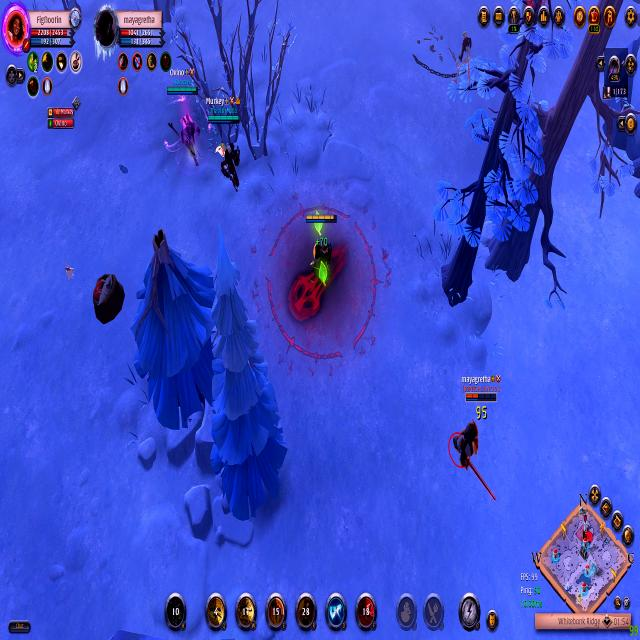ore: (452, 27, 474, 92), (523, 0, 553, 7)
red: (446, 366, 504, 510), (203, 92, 257, 195), (160, 59, 206, 177), (300, 207, 344, 309)
